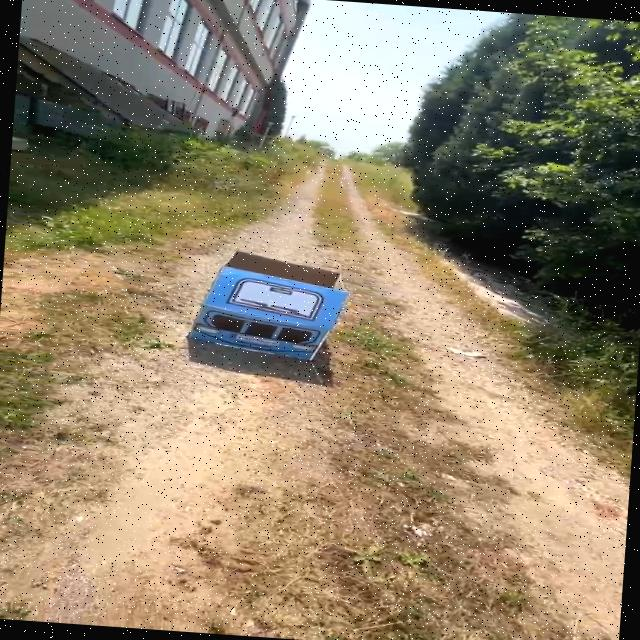blue_car: (162, 231, 361, 388)
